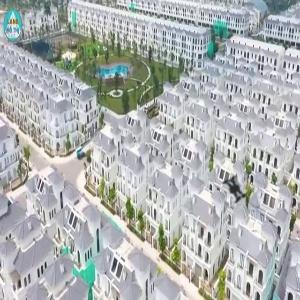drone: (201, 154, 270, 223)
